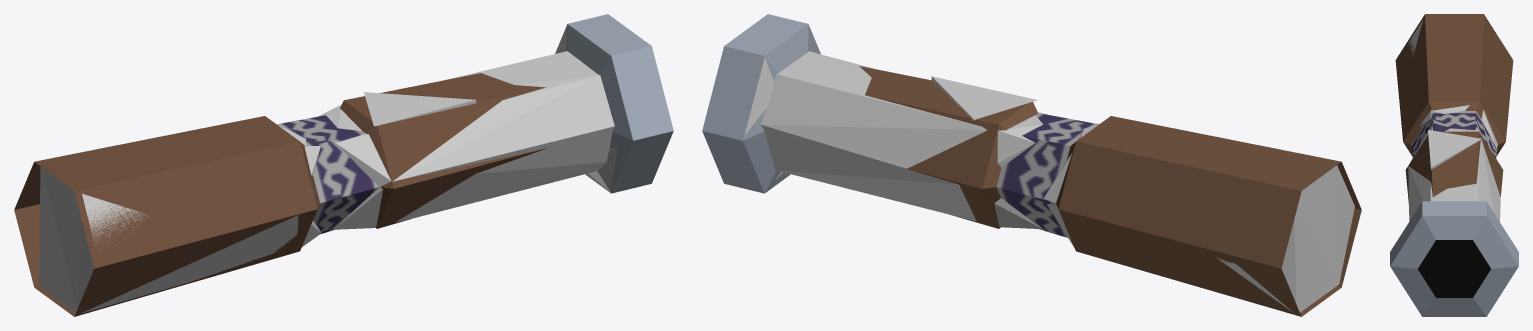
Rendered from SM_Prop_Viewing_Telescope_02.fbx.
The picture shows the model from 3 angles, left to right: view 1: azimuth 30°, elevation 25°; view 2: azimuth 150°, elevation 25°; view 3: azimuth 270°, elevation 25°; orthographic projection. The views are drawn at different scales.
Visible parts, largest first — view 1: SM_Prop_Viewing_Telescope_02, SM_Prop_Viewing_Telescope_02_ConvexHulls; view 2: SM_Prop_Viewing_Telescope_02, SM_Prop_Viewing_Telescope_02_ConvexHulls; view 3: SM_Prop_Viewing_Telescope_02, SM_Prop_Viewing_Telescope_02_ConvexHulls.
Part boxes in pixels (x1=…): SM_Prop_Viewing_Telescope_02: x1=14, y1=14, x2=673, y2=316; SM_Prop_Viewing_Telescope_02_ConvexHulls: x1=39, y1=26, x2=617, y2=314; SM_Prop_Viewing_Telescope_02: x1=702, y1=14, x2=1361, y2=316; SM_Prop_Viewing_Telescope_02_ConvexHulls: x1=744, y1=51, x2=1354, y2=313; SM_Prop_Viewing_Telescope_02: x1=1390, y1=14, x2=1518, y2=316; SM_Prop_Viewing_Telescope_02_ConvexHulls: x1=1408, y1=19, x2=1500, y2=221.
Size of the model in its own units: 44.32 by 11.55 by 10.01.
2 materials, 1 textured.
